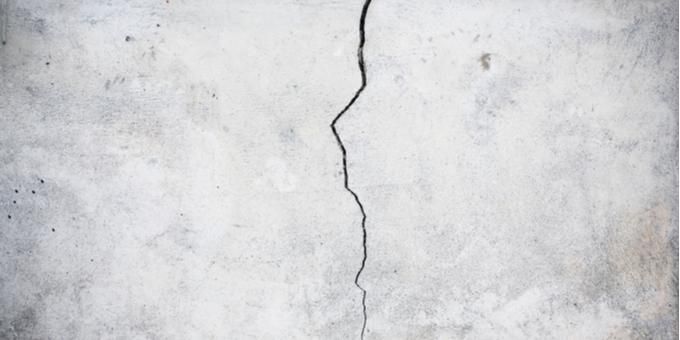crack: (330, 0, 373, 340)
